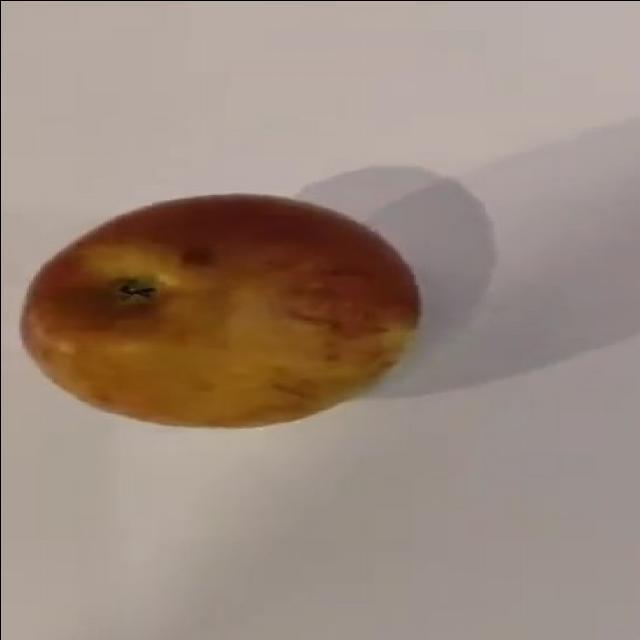Apple: (19, 191, 421, 429)
